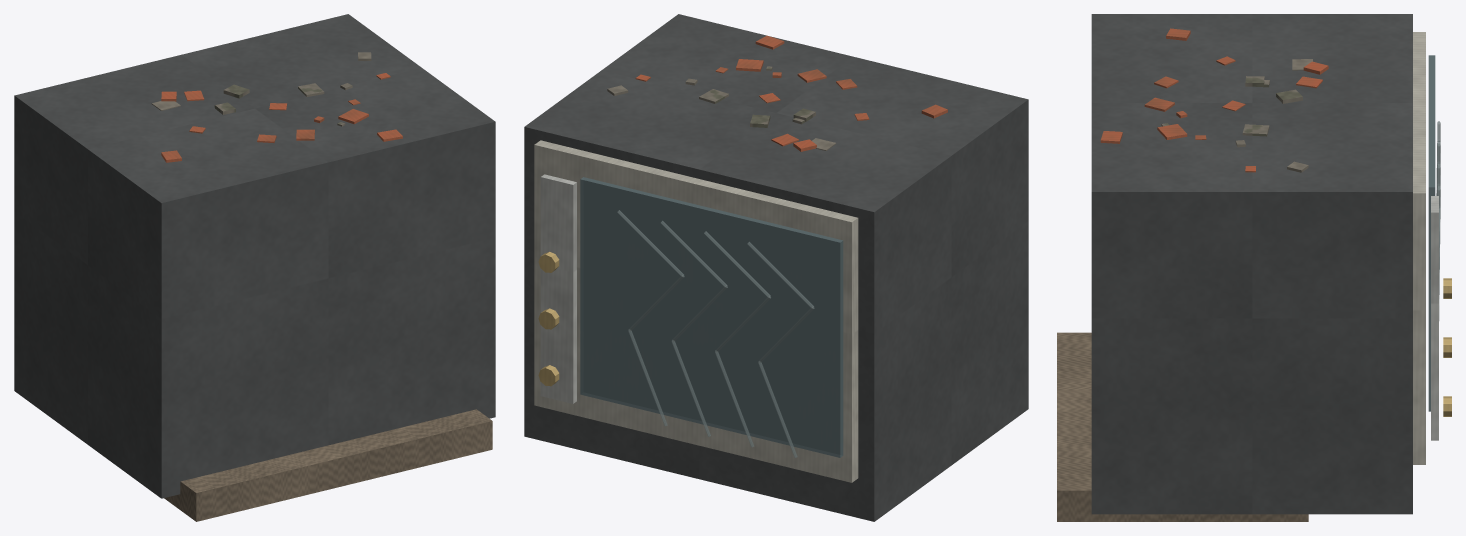
The model's file is cracked_crt_television.glb.
The picture shows the model from 3 angles, left to right: view 1: azimuth 30°, elevation 25°; view 2: azimuth 150°, elevation 25°; view 3: azimuth 270°, elevation 25°; orthographic projection. The views are drawn at different scales.
Parts seen in each view (by area): view 1: InteriorPropGeometry; view 2: InteriorPropGeometry; view 3: InteriorPropGeometry.
Boxes of the visible parts, left/top/right/bottom form: InteriorPropGeometry: left=14, top=14, right=495, bottom=521; InteriorPropGeometry: left=524, top=14, right=1028, bottom=521; InteriorPropGeometry: left=1057, top=14, right=1451, bottom=521.
Size of the model in its own units: 0.97 by 0.886 by 0.91.
Materials: 9 (7 with a texture image).
